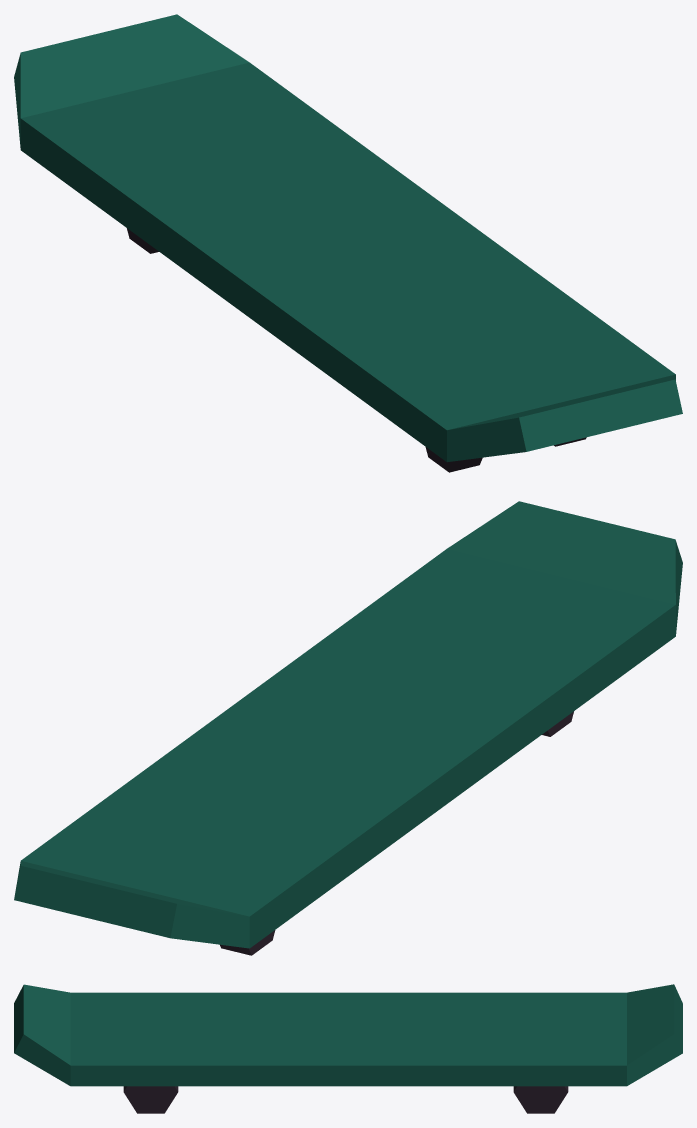
The model's file is Skateboard.fbx.
The picture shows the model from 3 angles, top to bottom: view 1: azimuth 30°, elevation 25°; view 2: azimuth 150°, elevation 25°; view 3: azimuth 270°, elevation 25°; orthographic projection. The views are drawn at different scales.
Visible parts, largest first — view 1: Cube; view 2: Cube; view 3: Cube, Cylinder.002, Cylinder.
Boxes of the visible parts, x1,y1,x2,y2 form: Cube: [14, 14, 682, 462]; Cube: [14, 501, 682, 948]; Cube: [14, 984, 682, 1086]; Cylinder.002: [513, 1086, 568, 1113]; Cylinder: [123, 1086, 178, 1113].
Bounding box in the file's own units: 75 × 38.56 × 291.
